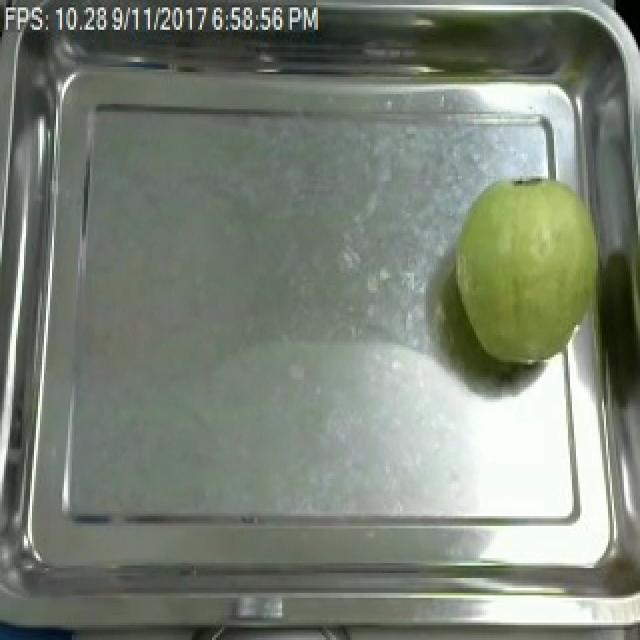Fruit: (444, 166, 614, 372)
